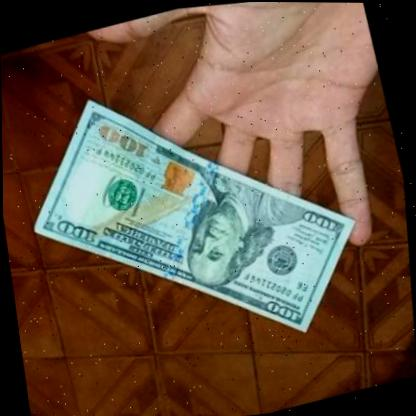one_hundred-front: (0, 22, 403, 406)
